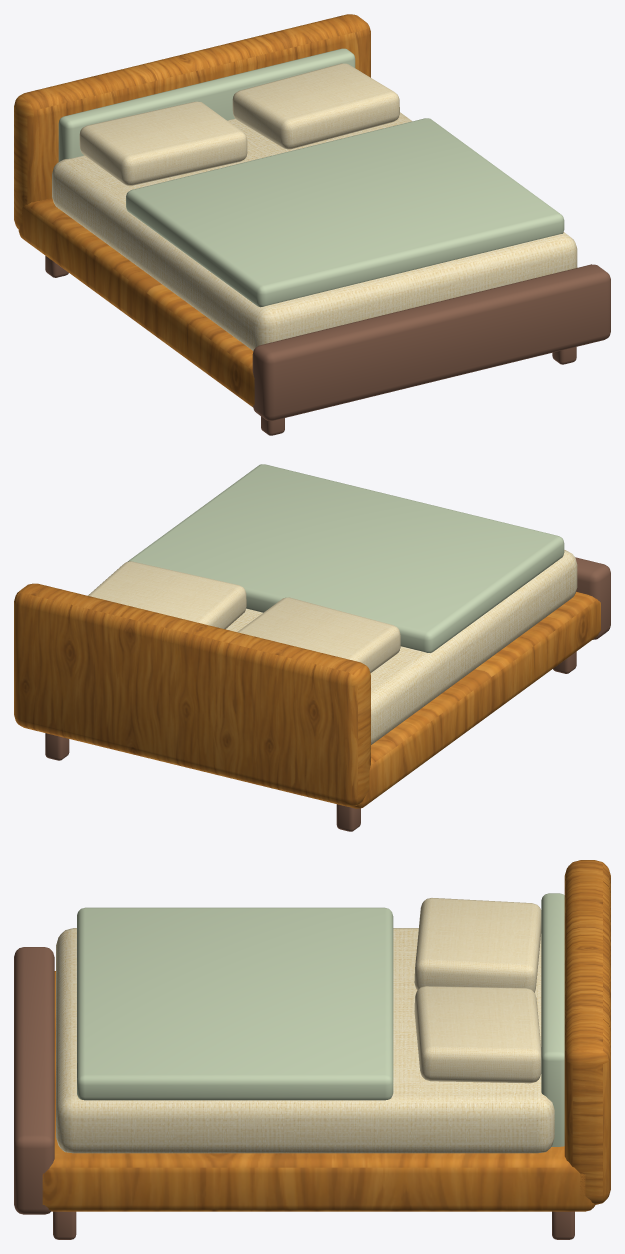
The model's file is queen-bed.glb.
3 views of the same model, one above another, from view 1: azimuth 30°, elevation 25°; view 2: azimuth 150°, elevation 25°; view 3: azimuth 270°, elevation 25° (orthographic). The views are drawn at different scales.
Visible parts, largest first — view 1: queen-bed; view 2: queen-bed; view 3: queen-bed.
Boxes of the visible parts, x1,y1,x2,y2 form: queen-bed: (14,14,610,435); queen-bed: (14,464,610,831); queen-bed: (14,860,610,1239).
Bounding box in the file's own units: 1.6 × 0.7676 × 2.06.
Materials: 4 (2 with a texture image).
